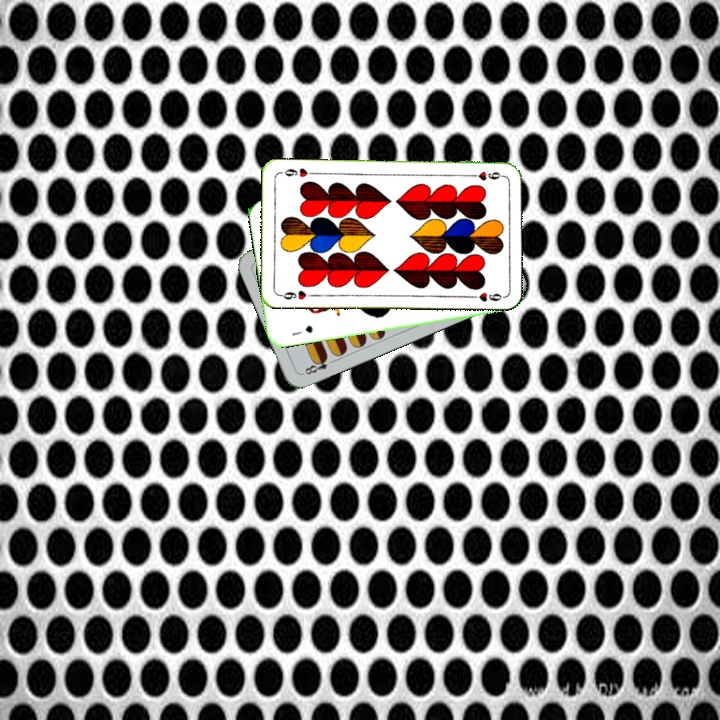E8: (298, 352, 337, 377)
GU: (288, 321, 315, 338)
H9: (465, 168, 506, 183), (276, 287, 316, 302)
